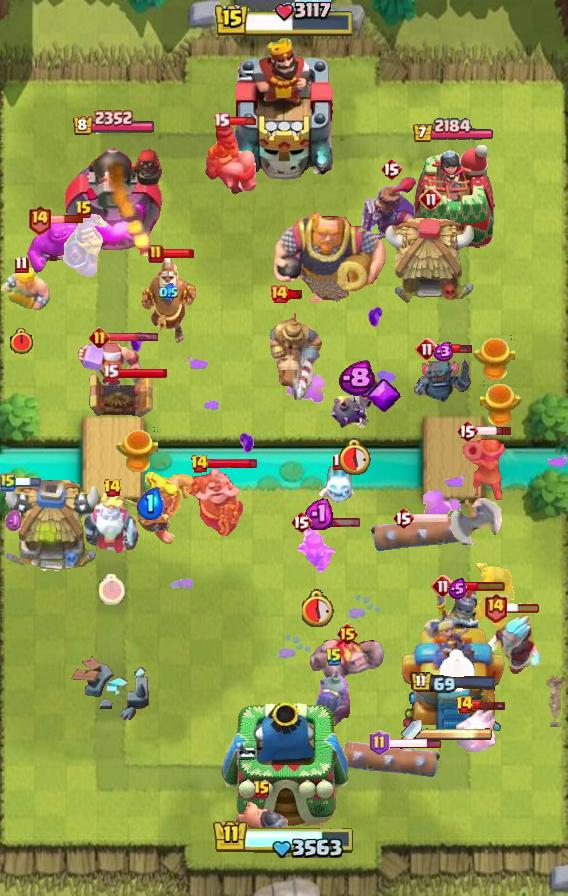archer-evolution: (298, 527, 338, 579)
axe: (449, 481, 503, 545)
bar: (387, 737, 442, 750), (207, 457, 258, 470), (453, 580, 506, 592), (116, 367, 168, 379), (309, 517, 361, 528), (107, 332, 159, 343), (6, 476, 43, 489), (437, 342, 473, 355), (412, 512, 449, 524), (476, 425, 513, 437), (471, 699, 507, 711), (505, 602, 541, 614), (161, 248, 195, 259), (49, 214, 84, 224), (227, 116, 259, 126), (287, 289, 304, 300)
bar-level: (483, 592, 508, 623), (27, 204, 52, 235), (431, 574, 455, 598), (415, 337, 439, 361), (419, 187, 443, 211), (336, 622, 359, 646), (369, 730, 390, 756), (290, 510, 312, 534), (392, 506, 414, 530), (456, 419, 478, 443), (380, 157, 402, 181), (89, 327, 110, 348), (269, 284, 289, 304), (455, 695, 474, 715), (103, 478, 122, 498), (190, 454, 209, 474), (253, 780, 271, 800), (325, 647, 343, 667), (75, 200, 93, 220), (102, 363, 119, 382), (213, 112, 230, 131), (0, 472, 16, 492), (148, 244, 164, 264), (332, 452, 347, 471), (14, 255, 29, 274)
barbarian: (0, 268, 54, 316)
bomber-evolution: (329, 375, 383, 431), (315, 662, 353, 730)
cannoneer-tower: (64, 138, 165, 256)
clock: (438, 649, 476, 693), (302, 589, 335, 627), (340, 438, 372, 475), (99, 574, 125, 605), (9, 328, 34, 355)
dagger-duchess-tower: (401, 615, 506, 731)
dagger-duchess-tower-bar: (422, 727, 492, 741)
dirt: (542, 675, 568, 727)
elixir: (338, 360, 375, 397), (304, 496, 333, 530), (136, 487, 164, 520), (5, 509, 24, 533), (431, 342, 454, 361), (448, 578, 467, 600), (159, 283, 178, 302)
elixir-golem-mid: (25, 221, 89, 275)
evolution-symbol: (367, 378, 402, 414)
golemite: (310, 637, 384, 699)
guard: (434, 583, 480, 645)
ice-spirit: (454, 706, 498, 752), (317, 465, 362, 507)
ice-wizard: (481, 612, 541, 678)
king-tower: (228, 35, 340, 181), (220, 701, 348, 826)
king-tower-bar: (212, 819, 356, 861), (213, 0, 355, 40)
knight: (470, 563, 515, 628)
knight-evolution: (62, 212, 107, 280)
lumberjack: (76, 341, 144, 395)
mini-pekka: (412, 354, 472, 404)
musketeer: (463, 432, 505, 502)
queen-tower: (410, 145, 496, 256)
ram-rider: (202, 121, 262, 195)
royal-ghost: (84, 490, 140, 556)
royal-hog: (236, 800, 288, 850)
tesla: (85, 372, 157, 420)
the-log: (341, 741, 441, 777), (370, 515, 470, 551)
tower-bar: (72, 110, 156, 137), (412, 118, 495, 144), (410, 671, 497, 695)
